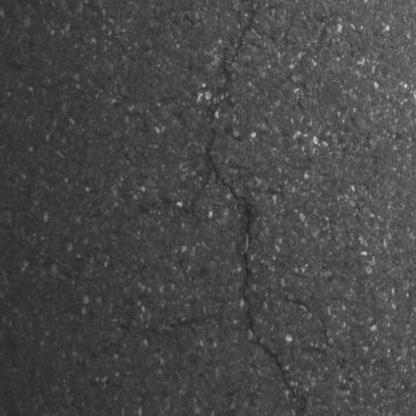Cracks: (137, 3, 312, 416)
